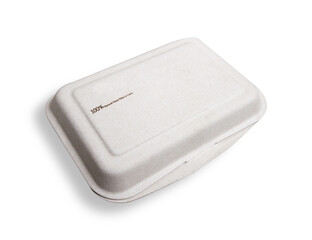styrofoam: (44, 33, 266, 202)
